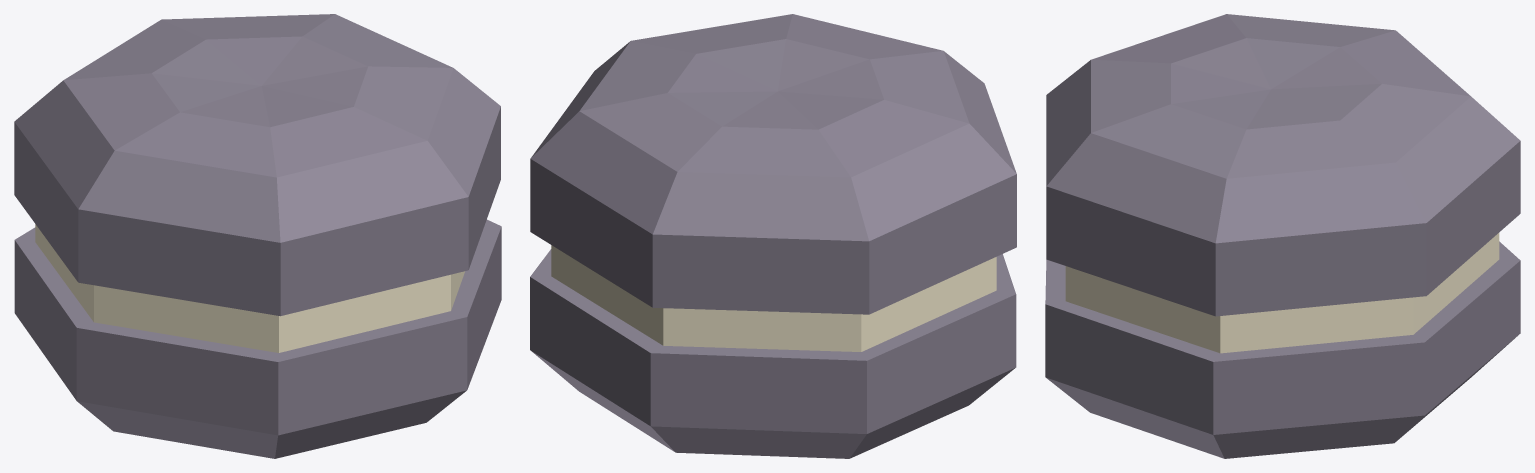
Rendered from circle_sandwich_01.fbx.
3 renders of one model, left to right at view 1: azimuth 30°, elevation 25°; view 2: azimuth 150°, elevation 25°; view 3: azimuth 270°, elevation 25°, orthographic.
Visible parts, largest first — view 1: Sphere.001; view 2: Sphere.001; view 3: Sphere.001.
Boxes of the visible parts, bbox=[...] form: Sphere.001: bbox=[14, 14, 501, 458]; Sphere.001: bbox=[530, 14, 1016, 458]; Sphere.001: bbox=[1045, 14, 1520, 458].
Bounding box in the file's own units: 115 × 79.98 × 113.
